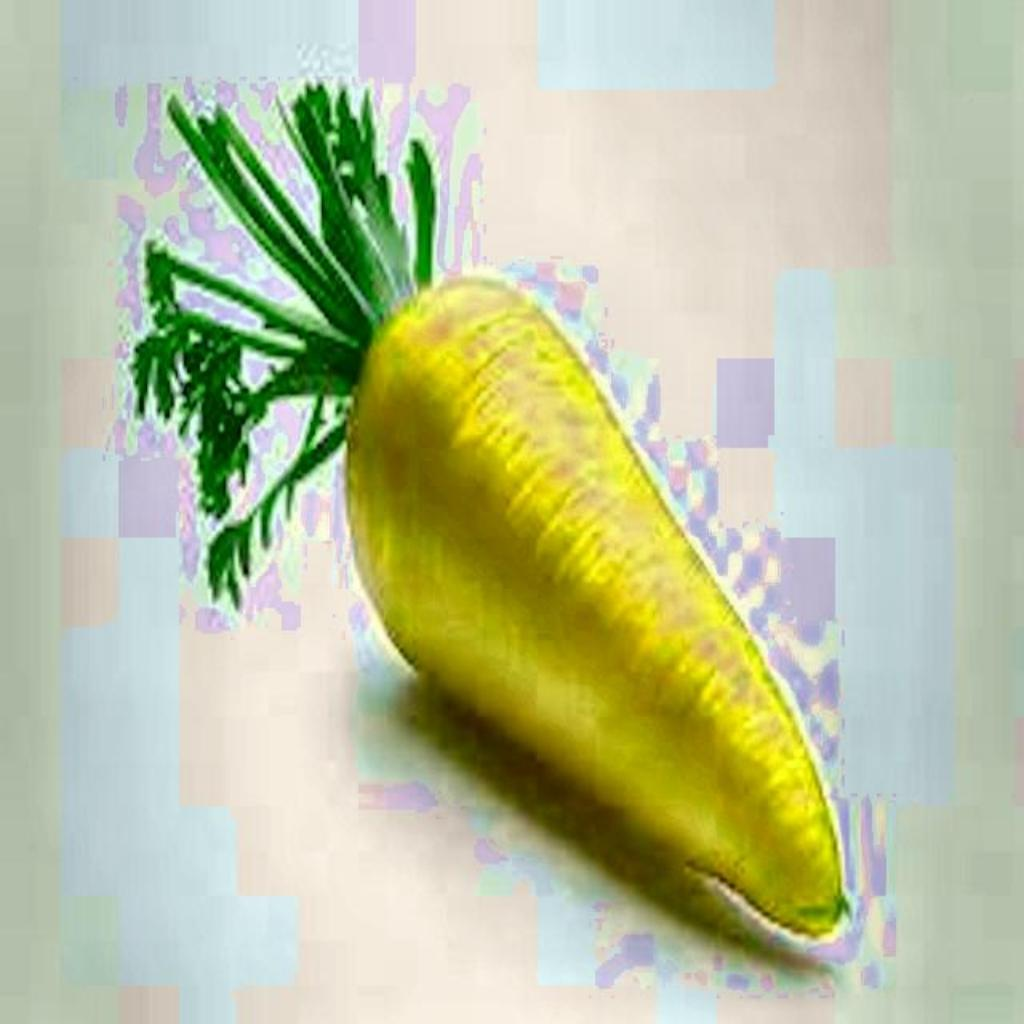carrot: (130, 84, 848, 940)
